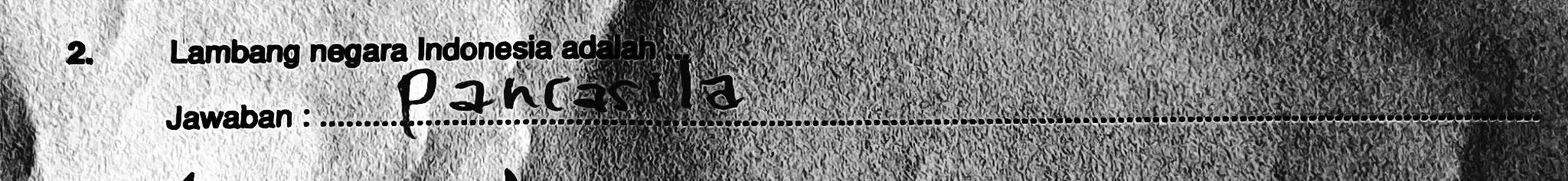jawaban: (390, 61, 747, 125)
